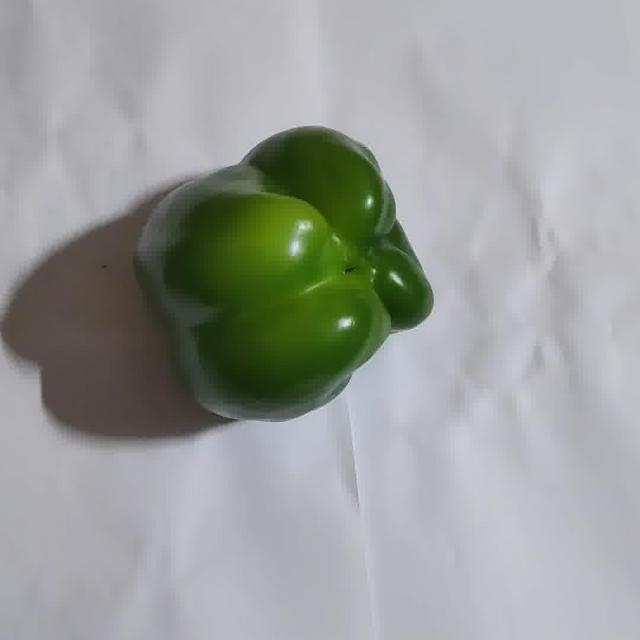Bell Pepper: (134, 126, 434, 423)
